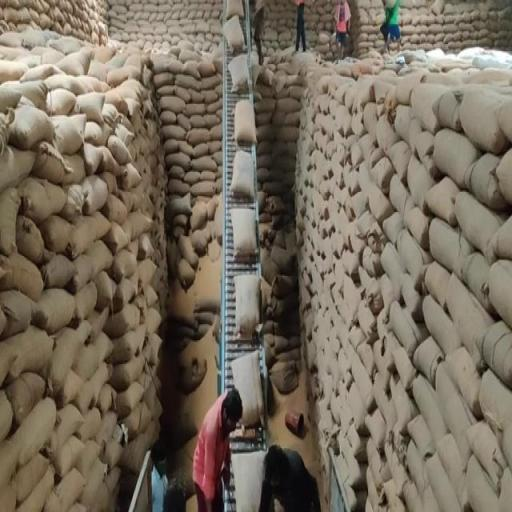c-belt-sack-count: (232, 350, 263, 426), (235, 274, 260, 338), (231, 208, 257, 258), (230, 150, 254, 198), (234, 100, 255, 142)
